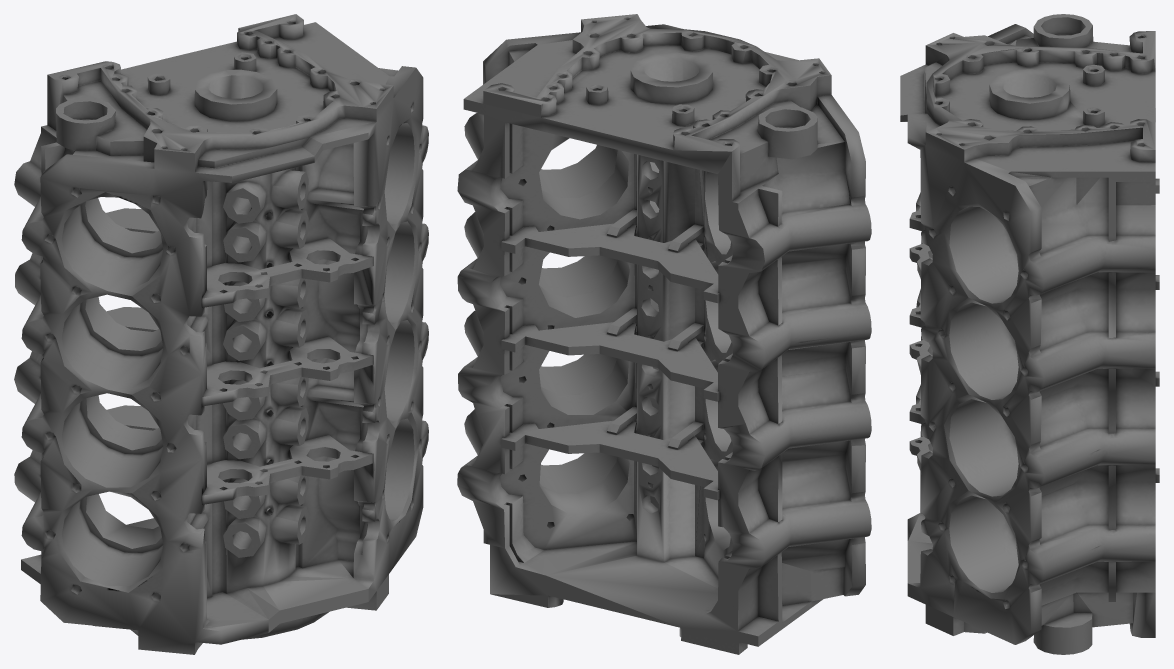
The model's file is engine.fbx.
The picture shows the model from 3 angles, left to right: view 1: azimuth 30°, elevation 25°; view 2: azimuth 150°, elevation 25°; view 3: azimuth 270°, elevation 25°; orthographic projection. The views are drawn at different scales.
Visible parts, largest first — view 1: 13475_V8_Engine_Block_v1_l1; view 2: 13475_V8_Engine_Block_v1_l1; view 3: 13475_V8_Engine_Block_v1_l1.
Part boxes in pixels (x1,y1,x2,y2): 13475_V8_Engine_Block_v1_l1: (14, 14, 428, 654); 13475_V8_Engine_Block_v1_l1: (457, 14, 871, 654); 13475_V8_Engine_Block_v1_l1: (900, 14, 1159, 654).
Size of the model in its own units: 4156 by 4976 by 2343.
